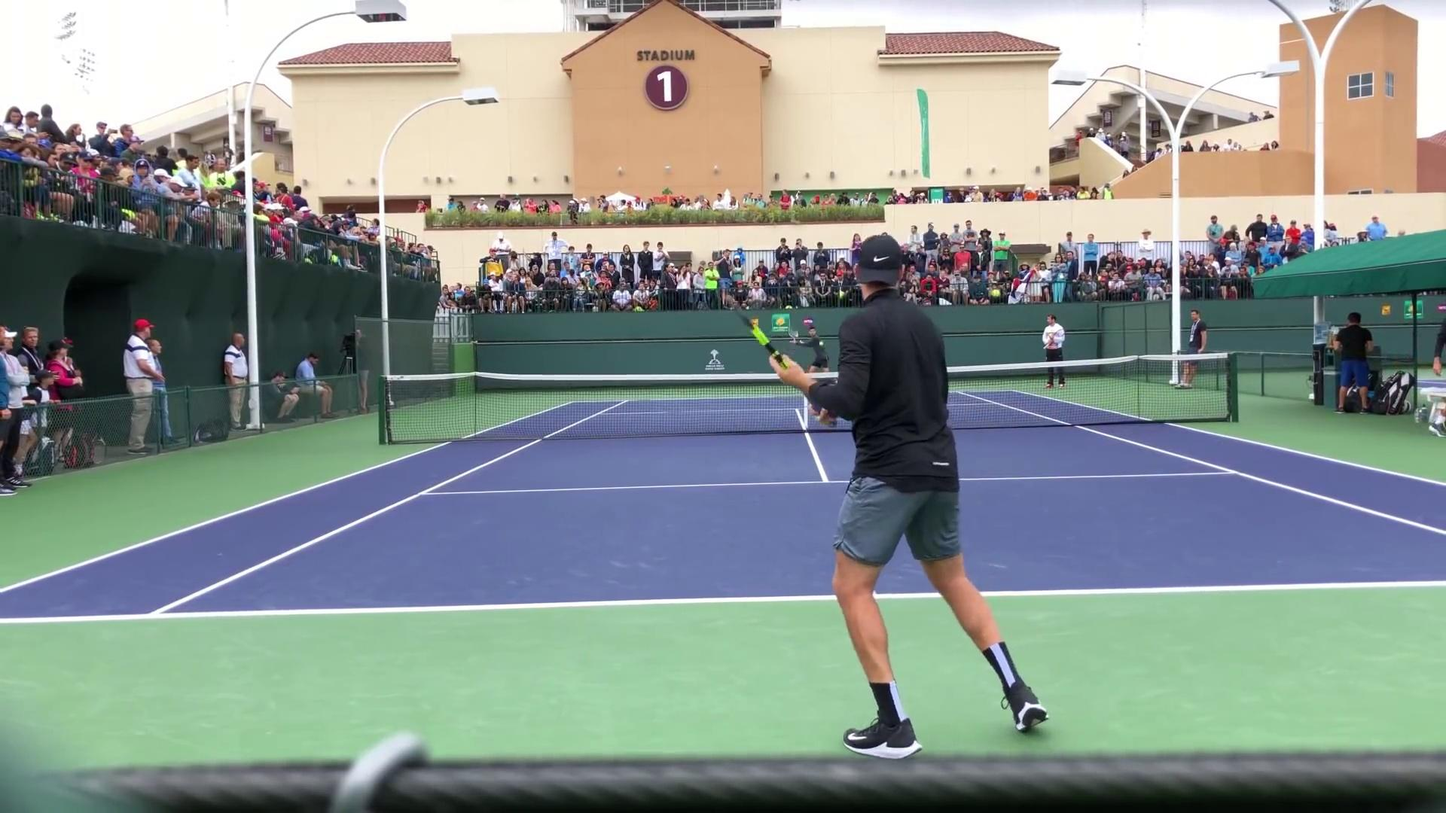ball: (818, 341, 824, 346)
